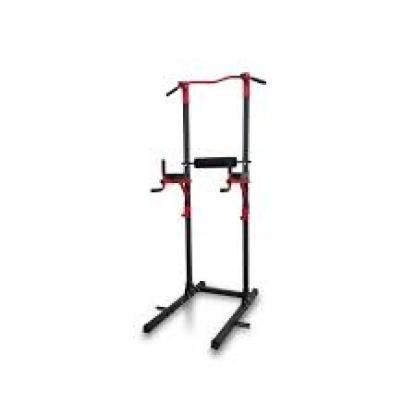chinning dipping: (143, 71, 268, 352)
